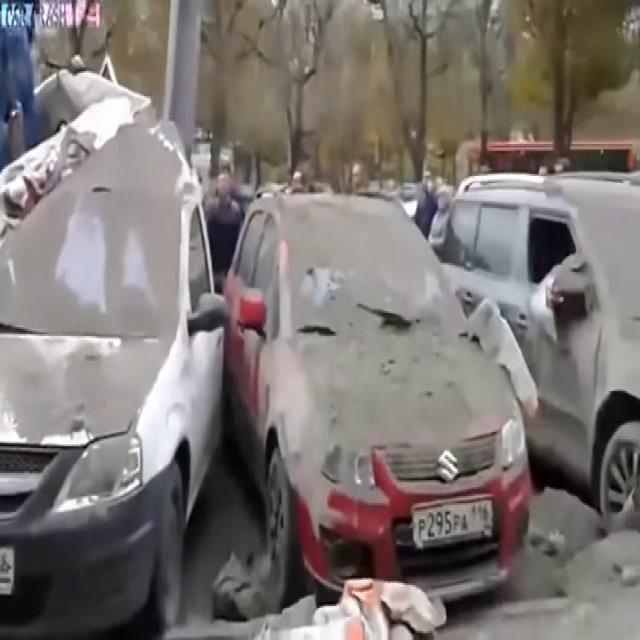accident: (0, 69, 242, 434)
